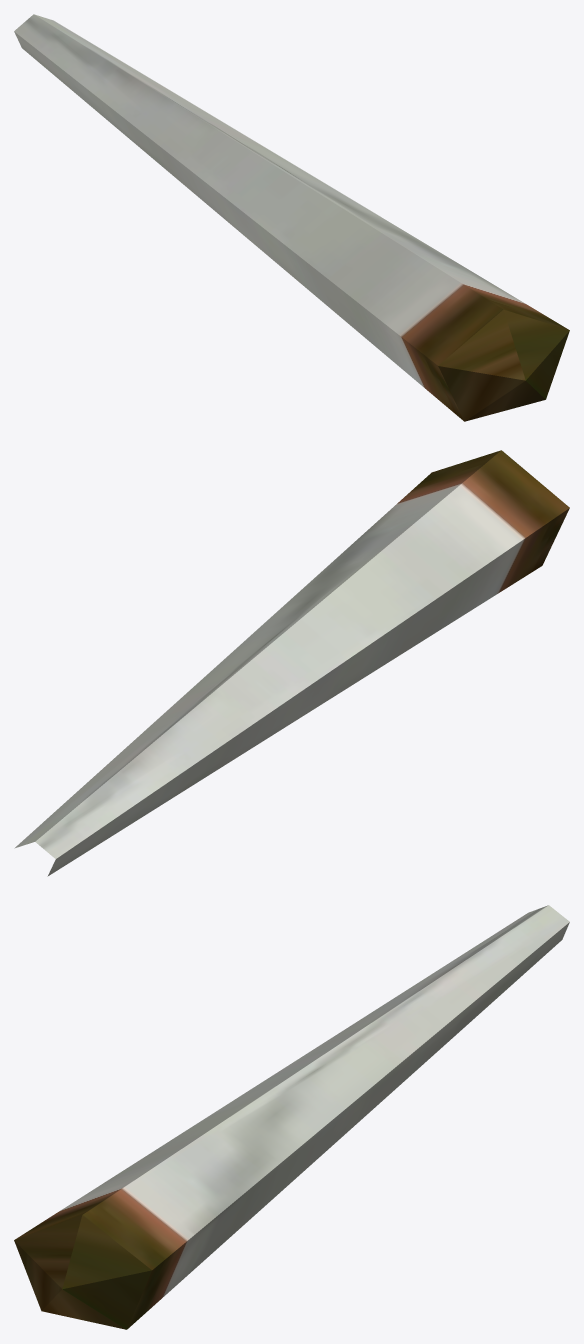
The model's file is FAJA2.glb.
The picture shows the model from 3 angles, top to bottom: view 1: azimuth 30°, elevation 25°; view 2: azimuth 150°, elevation 25°; view 3: azimuth 330°, elevation 25°; orthographic projection. The views are drawn at different scales.
Visible parts, largest first — view 1: FAJA2; view 2: FAJA2; view 3: FAJA2.
Boxes of the visible parts, x1,y1,x2,y2 form: FAJA2: (14, 14, 569, 421); FAJA2: (14, 450, 569, 876); FAJA2: (14, 905, 569, 1329).
Bounding box in the file's own units: 0.0478 × 0.0352 × 0.3002.
Materials: 1 (1 with a texture image).
